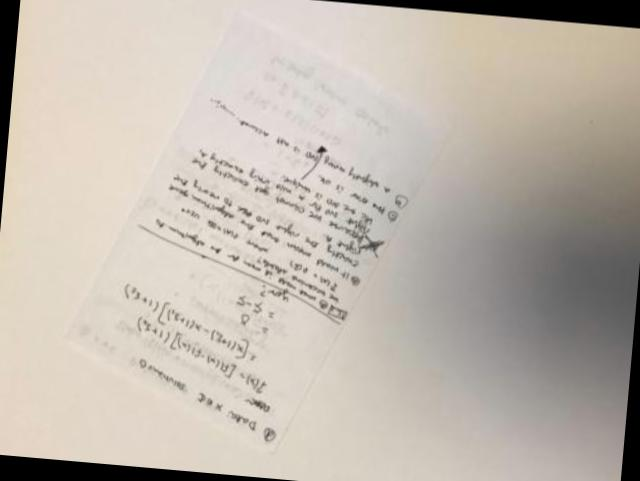cardboard paper: (66, 9, 439, 447)
